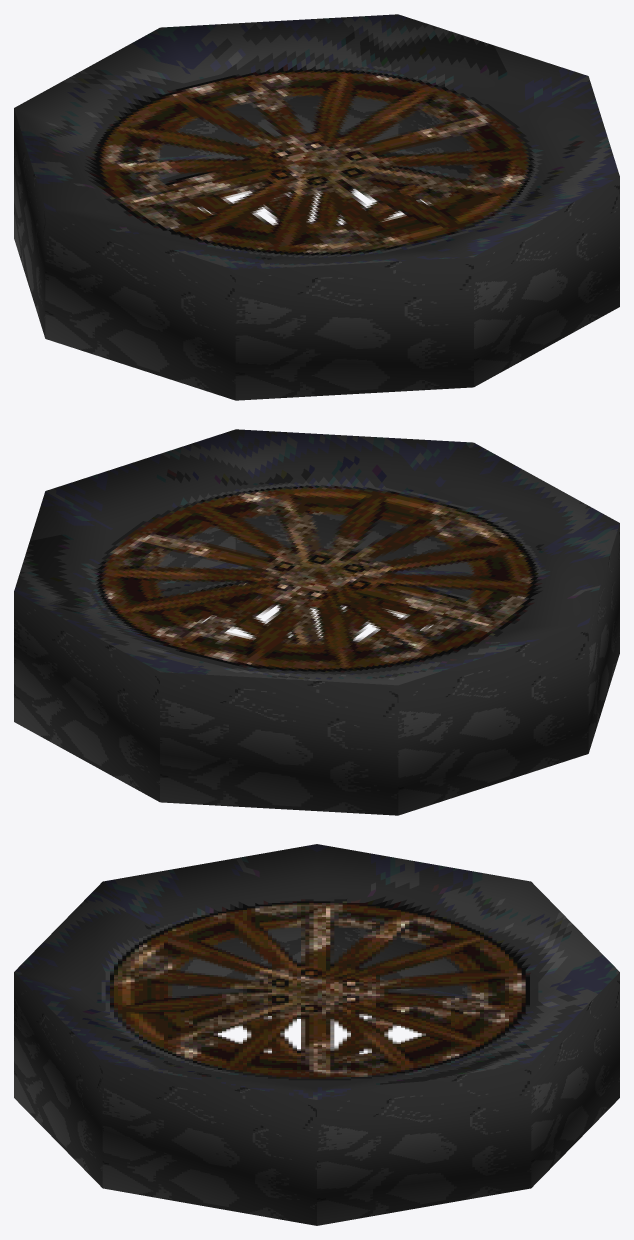
File: wheel_1.glb
3 renders of one model, top to bottom at view 1: azimuth 30°, elevation 25°; view 2: azimuth 150°, elevation 25°; view 3: azimuth 270°, elevation 25°, orthographic. The views are drawn at different scales.
Visible parts, largest first — view 1: Wheel_1; view 2: Wheel_1; view 3: Wheel_1.
Boxes of the visible parts, box(x1,y1,x2,y2) form: Wheel_1: box(14, 14, 619, 400); Wheel_1: box(14, 429, 619, 815); Wheel_1: box(14, 844, 619, 1225).
Size of the model in its own units: 2.04 by 0.4663 by 2.04.
1 material, 1 textured.
